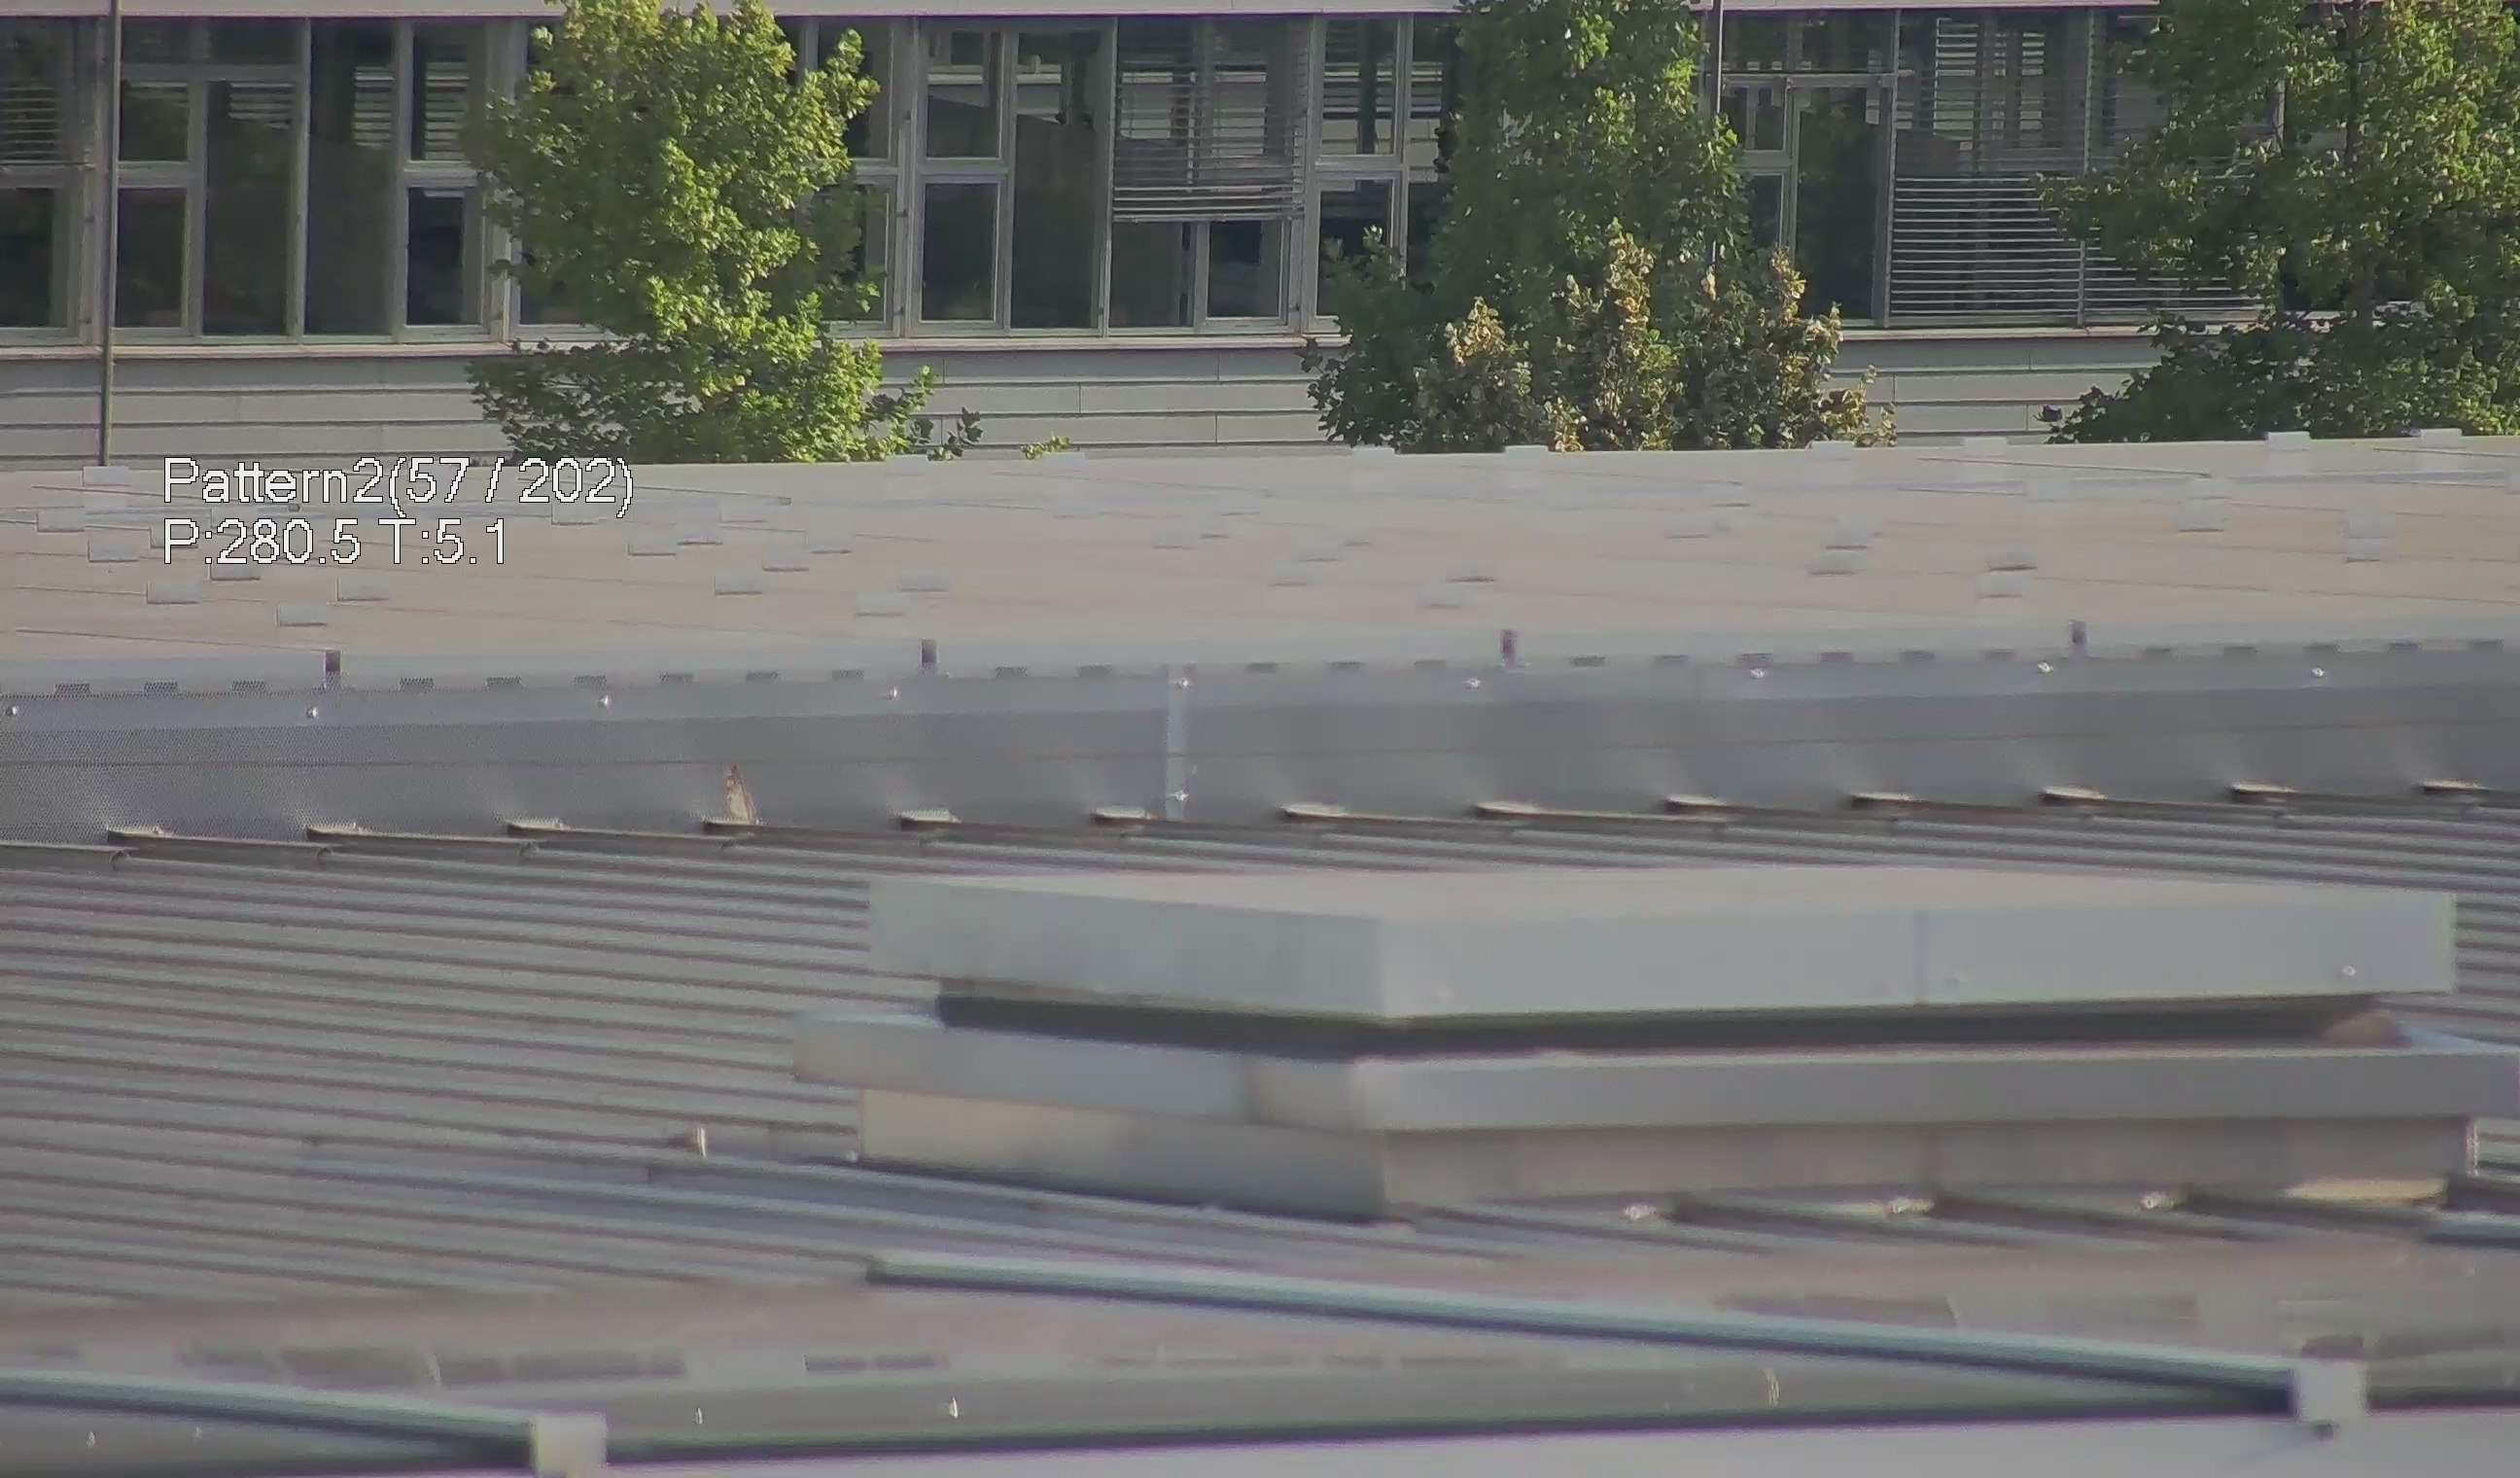Other: (688, 744, 758, 841)
